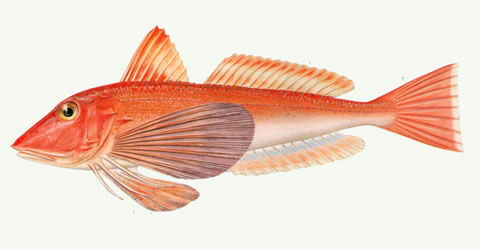fish: (10, 26, 464, 212)
